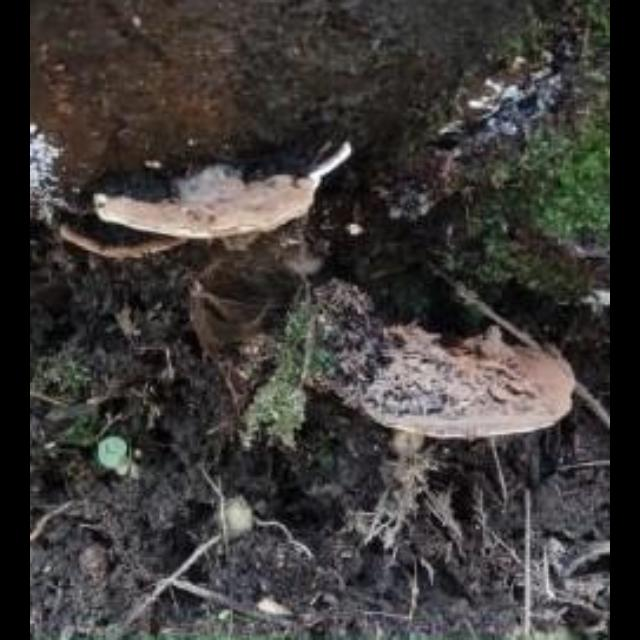ganoderma: (360, 332, 579, 442), (94, 166, 320, 243)
